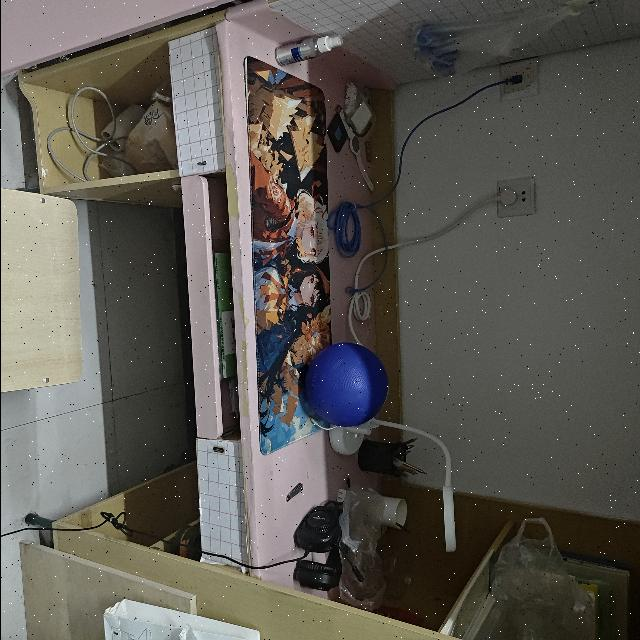B: (302, 340, 388, 424)
